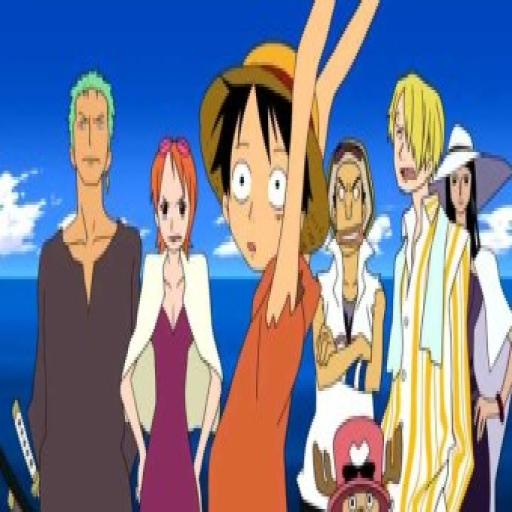Luffy: (199, 31, 329, 261)
Nami: (146, 134, 201, 260)
NicoRobin: (432, 109, 508, 238)
Usopp: (320, 134, 380, 260)
Zoro: (64, 62, 122, 196)
sanji: (384, 72, 448, 200)
